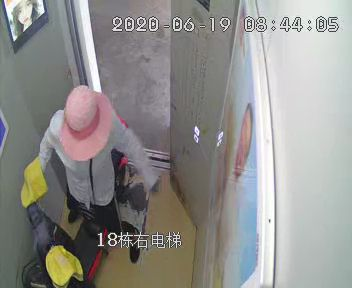Electric-bicycle: (22, 115, 126, 287)
